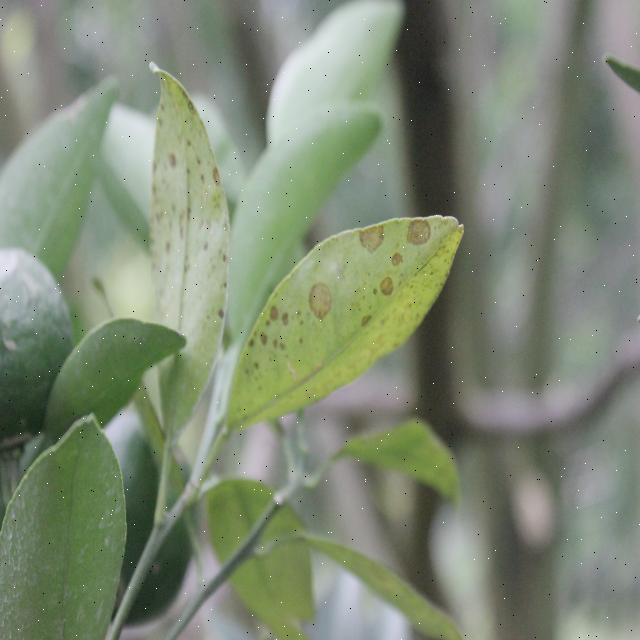melanose: (234, 200, 470, 439), (141, 72, 233, 386)
